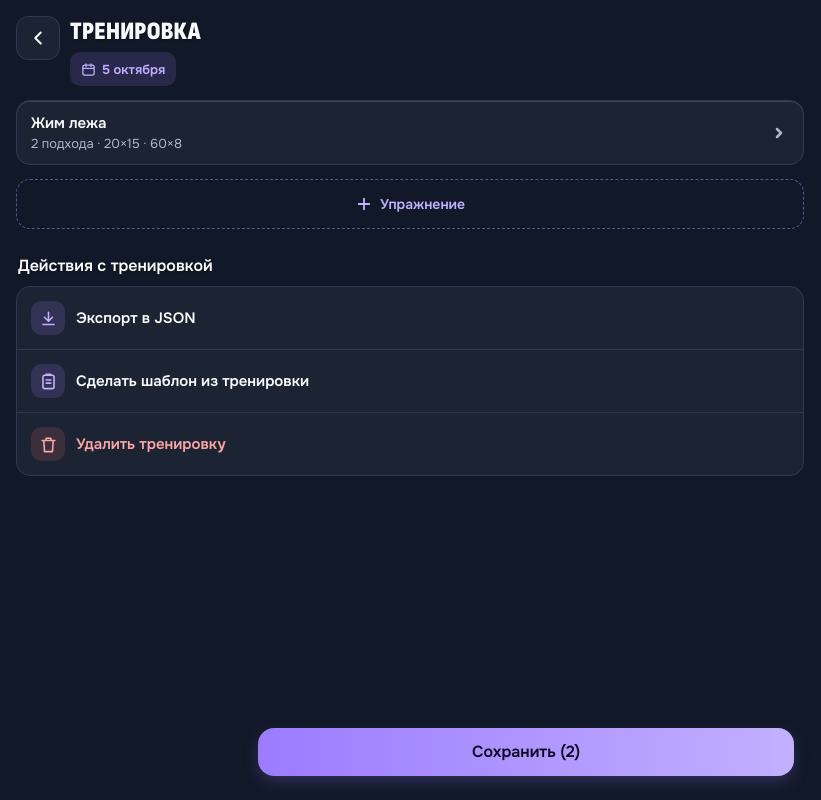
действия существующей тренировки › шаблон из тренировки: имя предзаполнено, приватный, синк и тост
Click the button "Сделать шаблон из тренировки" at (48, 381), box [17,349,803,412]
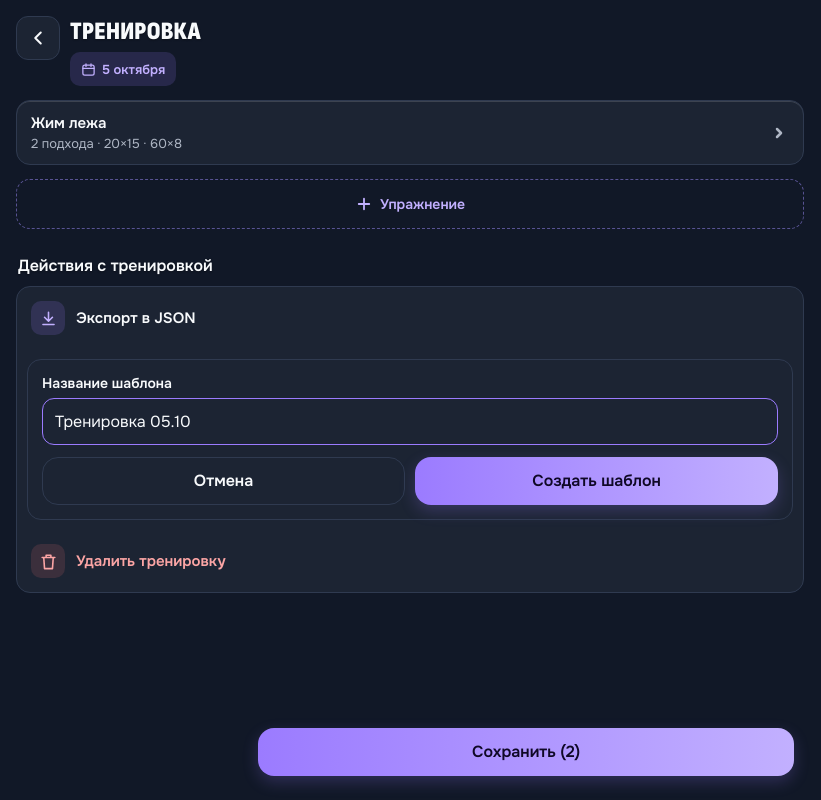
Now the field with placeholder "Название шаблона" is not empty
Replace the text in the field with placeholder "Название шаблона" with "  Грудь  " at (410, 422), box [42,398,778,445]
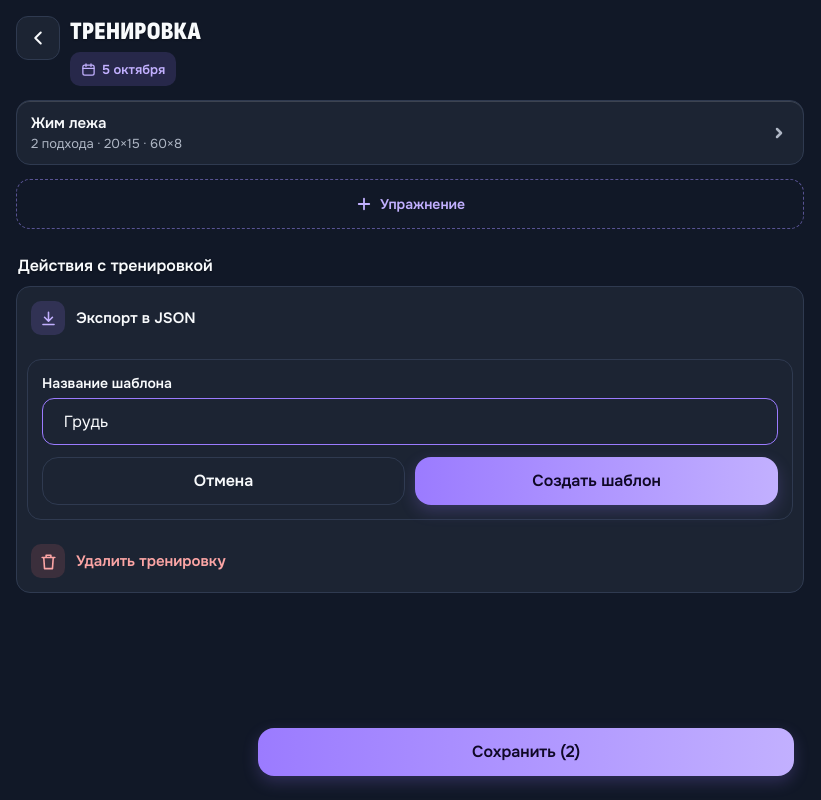
Click the button "Создать шаблон" at (596, 481), box [415,457,778,505]
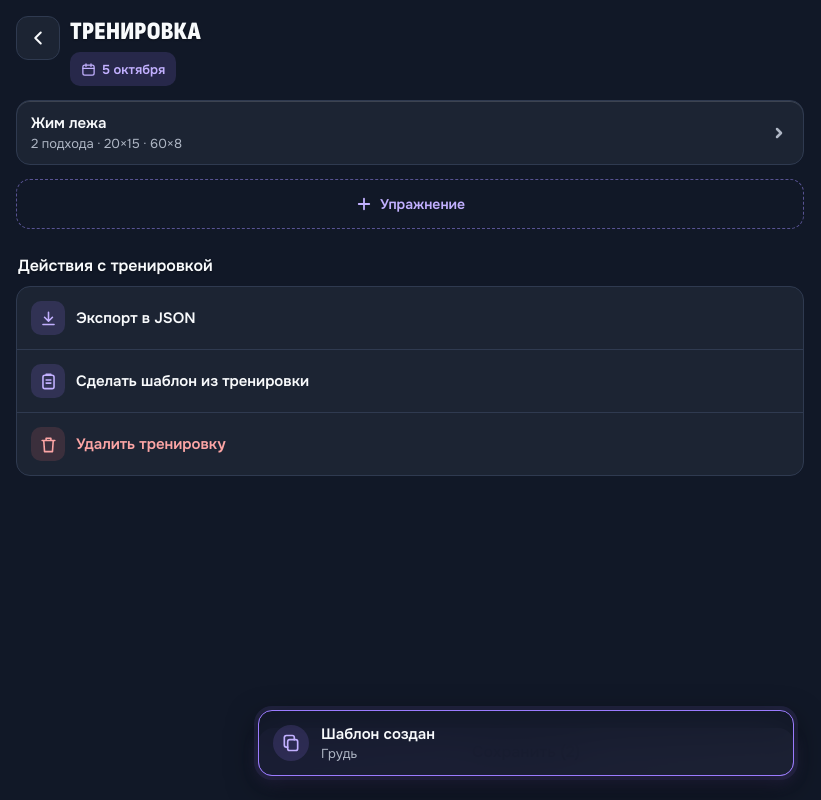
Now the text "Шаблон создан" is shown, box [321,724,435,744]
Now the text with placeholder "Название шаблона" is gone
